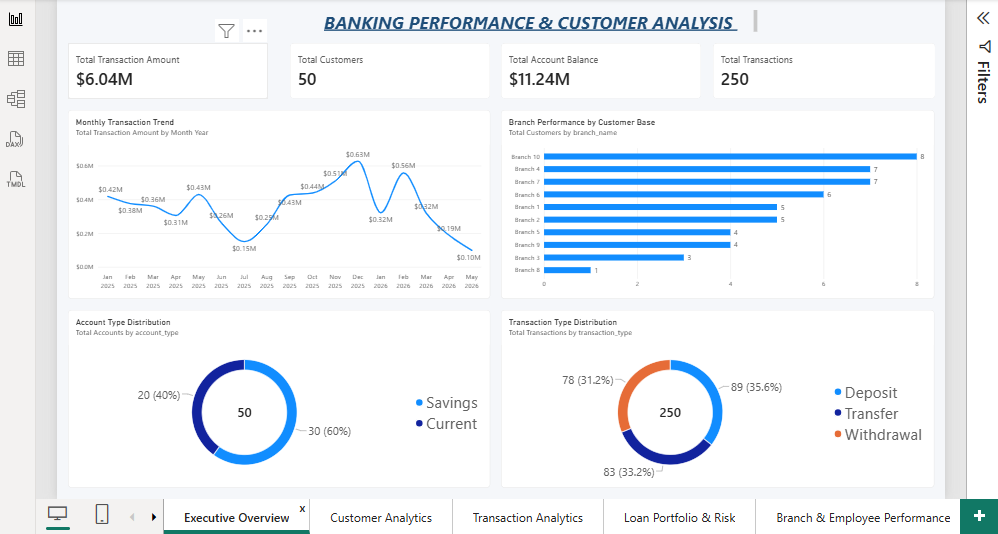

The page's visual inventory and layout, read from the dashboard file:
{"tool":"powerbi","page":{"name":"Executive Overview","canvas":[1920,1080],"ordinal":0},"visuals":[{"type":"lineChart","title":"Monthly Transaction Trend","fields":{"Category":["Transactions.Month Year"],"Y":["Accounts.Total Transaction Amount"]},"box":[24,240,912,408],"z":0},{"type":"clusteredBarChart","title":"Branch Performance by Customer Base","fields":{"Category":["Branches.branch_name"],"Y":["Accounts.Total Customers"]},"box":[960,240,936,408],"z":1000},{"type":"donutChart","title":"Transaction Type Distribution","fields":{"Category":["Transactions.transaction_type"],"Y":["Accounts.Total Transactions"]},"box":[960,672,936,384],"z":2000},{"type":"donutChart","title":"Account Type Distribution","fields":{"Category":["Accounts.account_type"],"Y":["Accounts.Total Accounts"]},"box":[24,672,912,384],"z":3000},{"type":"textbox","box":[576,24,936,48],"z":4000},{"type":"cardVisual","fields":{"Data":["Accounts.Total Customers"]},"box":[504,96,432,120],"z":5000},{"type":"cardVisual","fields":{"Data":["Accounts.Total Account Balance"]},"box":[960,96,432,120],"z":7000},{"type":"cardVisual","fields":{"Data":["Accounts.Total Transactions"]},"box":[1416,96,480,120],"z":8000},{"type":"cardVisual","fields":{"Data":["Accounts.Total Transaction Amount"]},"box":[24,96,432,120],"z":9000}]}

Visuals, with their boxes on the page's 1920x1080 design canvas (x1, y1, x2, y2). These are canvas units, not pixel positions in the 998x534 screenshot, which may show the page scaled, cropped or inside an application window:
"Monthly Transaction Trend" lineChart: BBox(24, 240, 936, 648)
"Branch Performance by Customer Base" clusteredBarChart: BBox(960, 240, 1896, 648)
"Transaction Type Distribution" donutChart: BBox(960, 672, 1896, 1056)
"Account Type Distribution" donutChart: BBox(24, 672, 936, 1056)
textbox: BBox(576, 24, 1512, 72)
cardVisual - Accounts.Total Customers: BBox(504, 96, 936, 216)
cardVisual - Accounts.Total Account Balance: BBox(960, 96, 1392, 216)
cardVisual - Accounts.Total Transactions: BBox(1416, 96, 1896, 216)
cardVisual - Accounts.Total Transaction Amount: BBox(24, 96, 456, 216)
